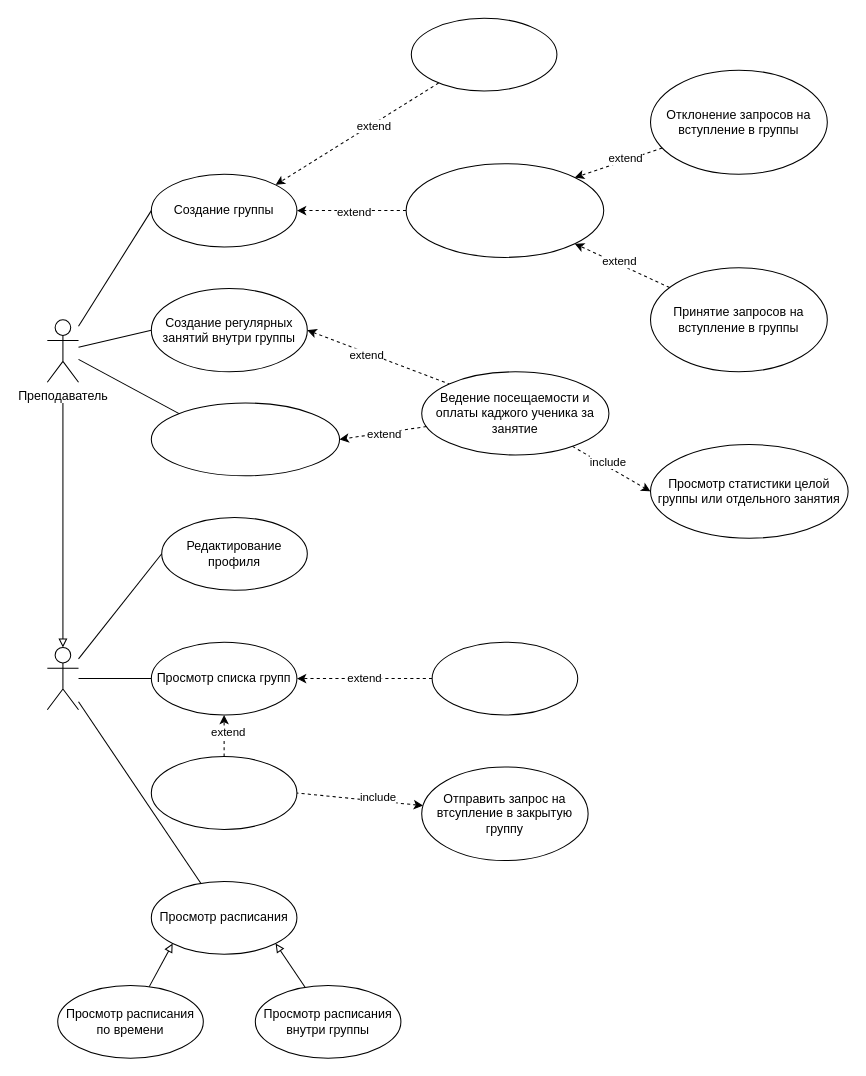
This 866x1076 diagram has some shape labels left out. The shapes that lost their labels are listed below. From the top down, each one's centre as x and y in pixels, then its label:
At (x=483, y=54): "Удаление группы".
At (x=504, y=210): "Просмотр запросов учеников на вступление в закрытые группы".
At (x=245, y=439): "Создание индивидуальных занятий".
At (x=62, y=678): "Обучающийся".
At (x=504, y=678): "Выход из группы".
At (x=223, y=792): "Вступление в группу".
